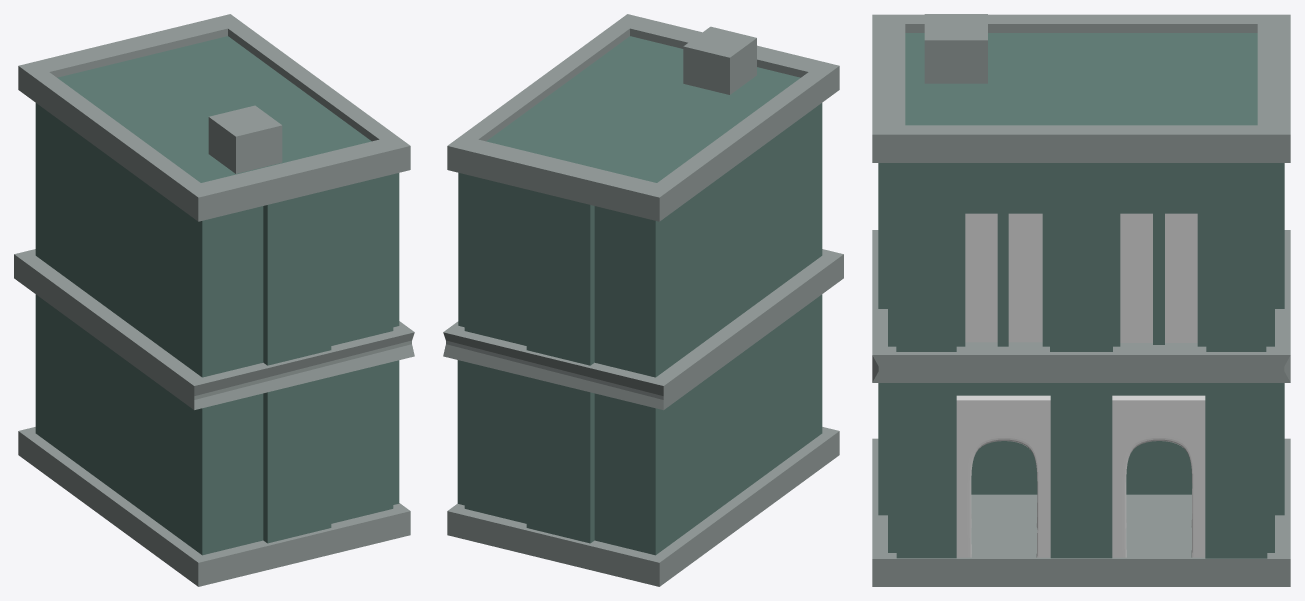
Rendered from cityhouse.fbx.
The picture shows the model from 3 angles, left to right: view 1: azimuth 30°, elevation 25°; view 2: azimuth 150°, elevation 25°; view 3: azimuth 270°, elevation 25°; orthographic projection. The views are drawn at different scales.
Parts seen in each view (by area): view 1: Cube, Cube.002, Cube.003, Cube.001, Cube.006; view 2: Cube, Cube.002, Cube.003, Cube.001, Cube.006; view 3: Cube, Cube.002, Cube.001, Cube.003, Cube.005, Cube.004, Cube.006.
Part boxes in pixels (x1=…): Cube: x1=35, y1=36, x2=399, y2=555; Cube.002: x1=18, y1=14, x2=410, y2=221; Cube.003: x1=14, y1=249, x2=414, y2=410; Cube.001: x1=18, y1=427, x2=410, y2=586; Cube.006: x1=208, y1=105, x2=282, y2=173; Cube: x1=457, y1=36, x2=822, y2=555; Cube.002: x1=447, y1=14, x2=839, y2=221; Cube.003: x1=443, y1=249, x2=843, y2=410; Cube.001: x1=447, y1=427, x2=839, y2=586; Cube.006: x1=683, y1=26, x2=756, y2=94; Cube: x1=878, y1=33, x2=1284, y2=558; Cube.002: x1=872, y1=14, x2=1290, y2=162; Cube.001: x1=872, y1=438, x2=1290, y2=586; Cube.003: x1=872, y1=230, x2=1290, y2=382; Cube.005: x1=956, y1=395, x2=1050, y2=557; Cube.004: x1=1112, y1=395, x2=1205, y2=557; Cube.006: x1=924, y1=14, x2=987, y2=83.
Size of the model in its own units: 548 by 995 by 775.
